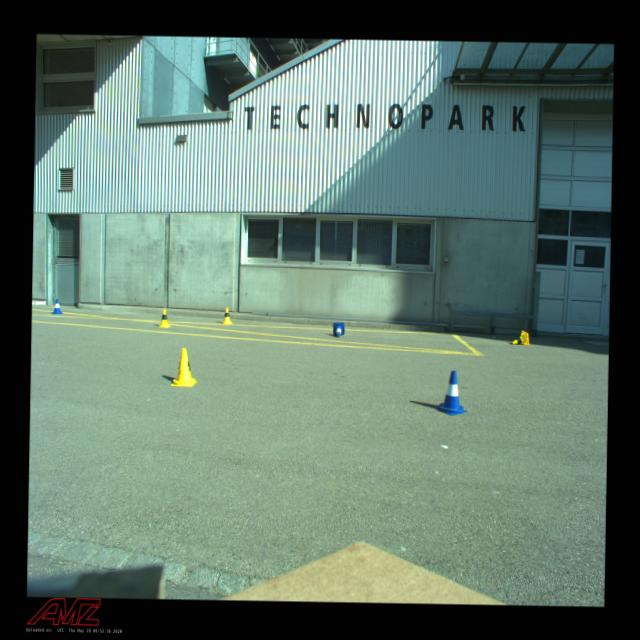blue_cone: (433, 370, 468, 416), (51, 298, 63, 314), (332, 322, 344, 337)
yellow_cone: (170, 348, 197, 387), (157, 308, 170, 328), (512, 330, 529, 345), (221, 307, 233, 324)
